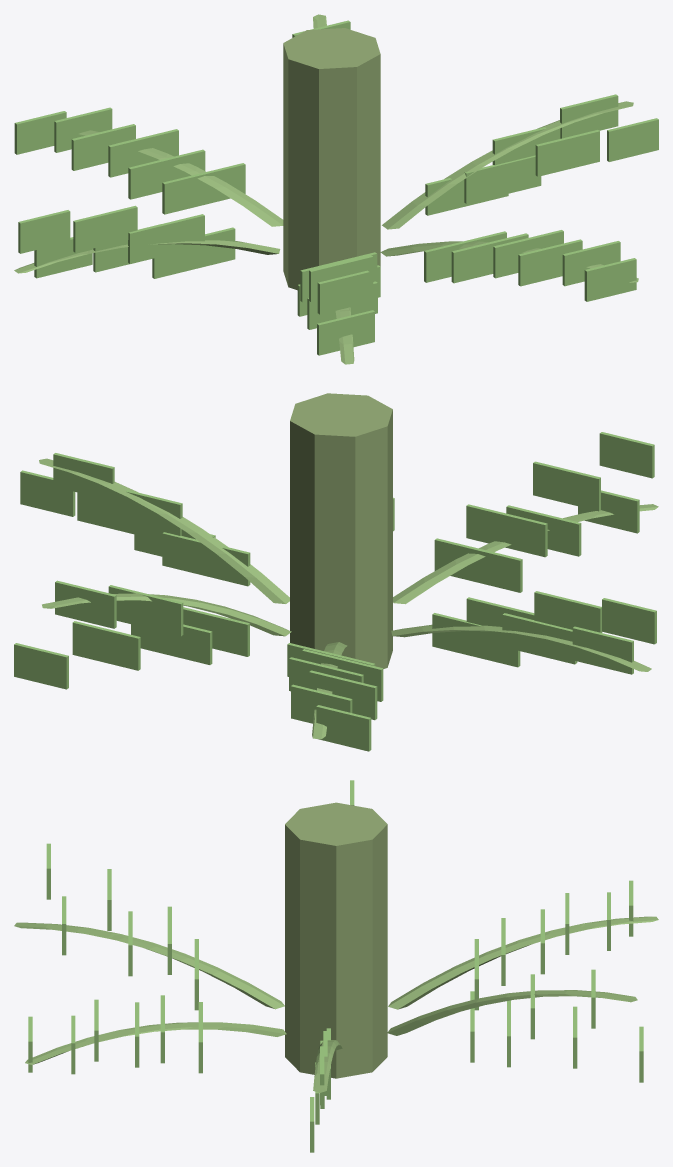
Rendered from 50-Vegetacion_helecho_chico.glb.
3 views of the same model, one above another, from view 1: azimuth 30°, elevation 25°; view 2: azimuth 150°, elevation 25°; view 3: azimuth 270°, elevation 25° (orthographic). The views are drawn at different scales.
Parts seen in each view (by area): view 1: SM_HelechoChico_M_Hoja_HelechoChico, SM_HelechoChico_M_Tronco_HelechoChico, SM_HelechoChico_M_Tallo_HelechoChico; view 2: SM_HelechoChico_M_Hoja_HelechoChico, SM_HelechoChico_M_Tronco_HelechoChico, SM_HelechoChico_M_Tallo_HelechoChico; view 3: SM_HelechoChico_M_Tronco_HelechoChico, SM_HelechoChico_M_Tallo_HelechoChico, SM_HelechoChico_M_Hoja_HelechoChico.
Boxes of the visible parts, left/top/right/bottom form: SM_HelechoChico_M_Hoja_HelechoChico: left=14, top=20, right=658, bottom=355; SM_HelechoChico_M_Tronco_HelechoChico: left=283, top=28, right=380, bottom=290; SM_HelechoChico_M_Tallo_HelechoChico: left=14, top=14, right=638, bottom=364; SM_HelechoChico_M_Hoja_HelechoChico: left=14, top=432, right=656, bottom=751; SM_HelechoChico_M_Tronco_HelechoChico: left=290, top=393, right=392, bottom=668; SM_HelechoChico_M_Tallo_HelechoChico: left=39, top=458, right=658, bottom=739; SM_HelechoChico_M_Tronco_HelechoChico: left=285, top=802, right=387, bottom=1078; SM_HelechoChico_M_Tallo_HelechoChico: left=14, top=916, right=658, bottom=1092; SM_HelechoChico_M_Hoja_HelechoChico: left=28, top=780, right=643, bottom=1152.
Size of the model in its own units: 1.99 by 0.7 by 1.76.
